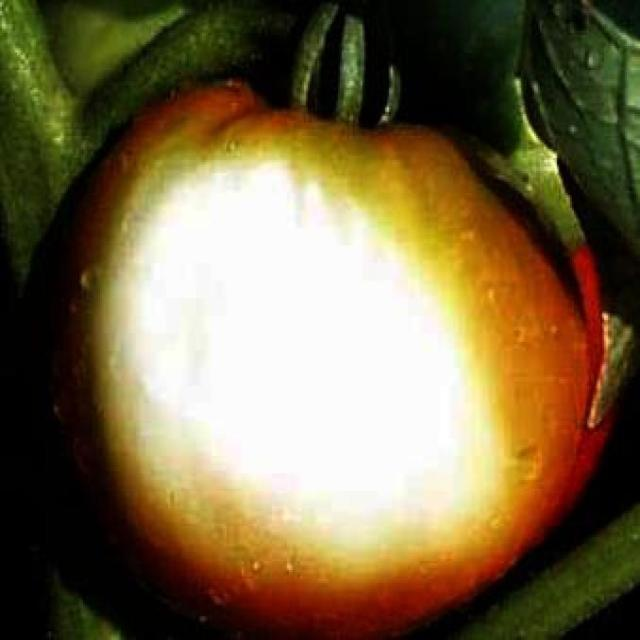Sunscald Fruit: (56, 94, 337, 392)
